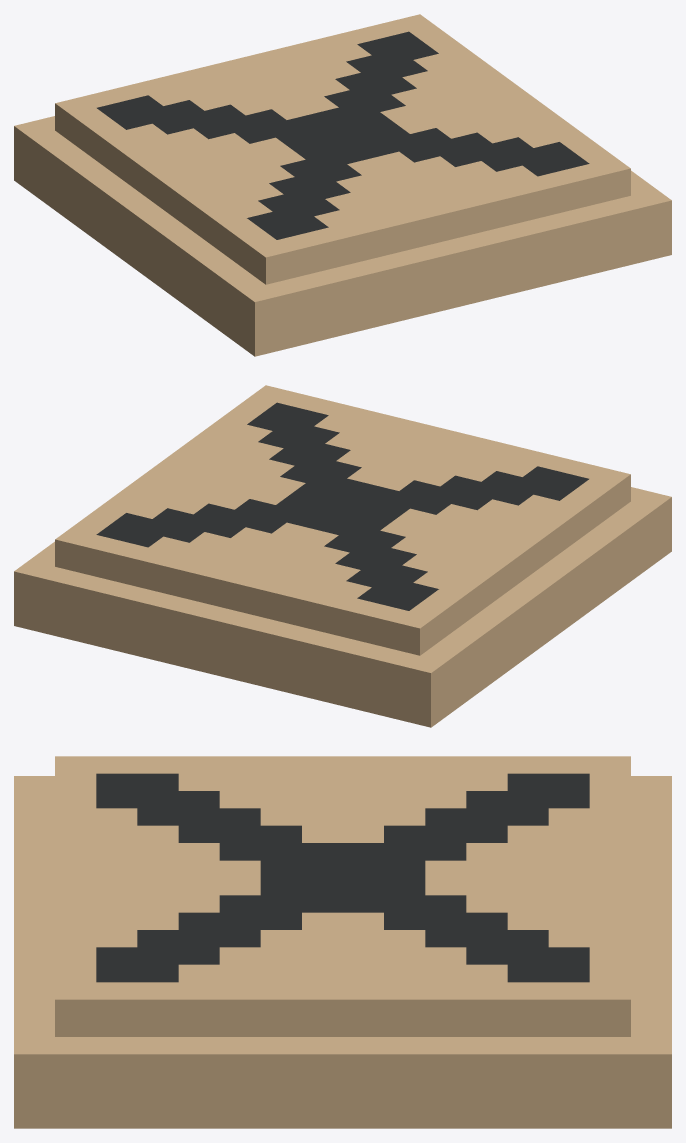
Rendered from x-v4-tan-black.gltf.
3 renders of one model, top to bottom at view 1: azimuth 30°, elevation 25°; view 2: azimuth 150°, elevation 25°; view 3: azimuth 270°, elevation 25°, orthographic. The views are drawn at different scales.
Parts seen in each view (by area): view 1: Untitled; view 2: Untitled; view 3: Untitled.
Part boxes in pixels (bbox=[...]): Untitled: bbox=[14, 14, 671, 356]; Untitled: bbox=[14, 385, 671, 727]; Untitled: bbox=[14, 756, 671, 1128].
Size of the model in its own units: 1.6 by 0.3 by 1.6.
Materials: 1 (1 with a texture image).
